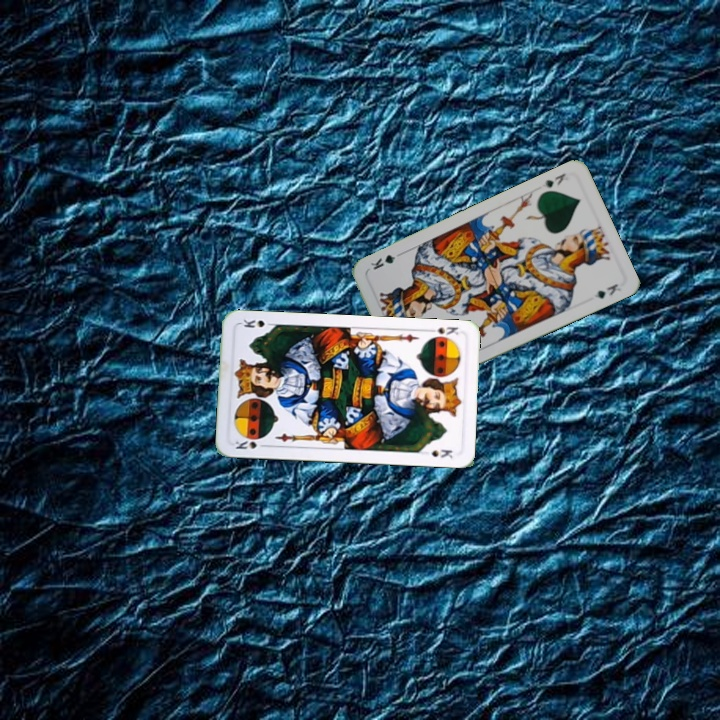GK: (538, 169, 568, 190)
SK: (231, 436, 270, 452), (424, 322, 461, 338)
